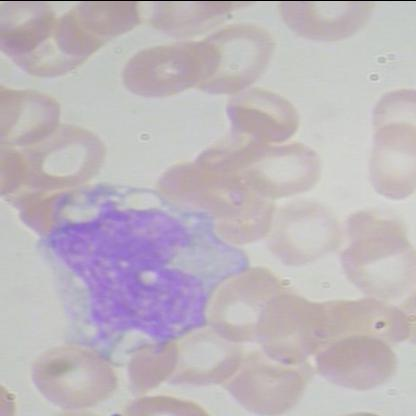RBC: (180, 20, 280, 97), (26, 342, 122, 416), (259, 196, 339, 272), (315, 333, 395, 393), (277, 1, 377, 48), (119, 42, 199, 99), (363, 119, 415, 206), (221, 83, 300, 140), (226, 359, 306, 415), (255, 292, 317, 362), (369, 83, 415, 154)
WBC: (31, 186, 256, 365)
